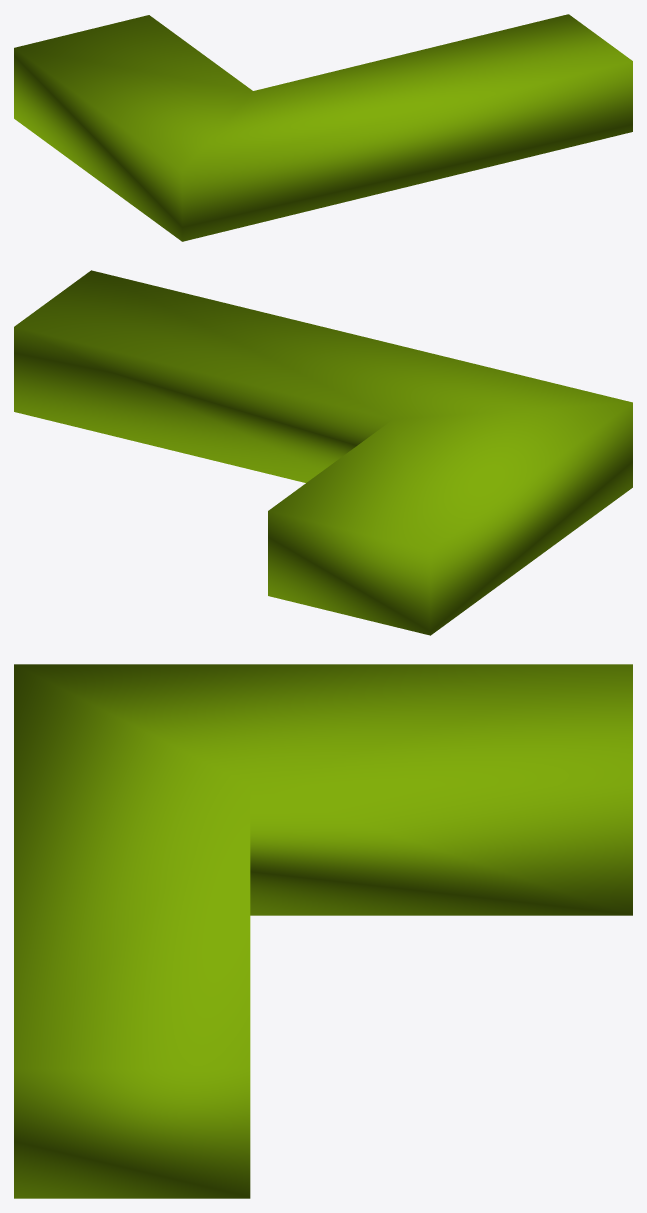
File: LPEomassa.glb
3 renders of one model, top to bottom at view 1: azimuth 30°, elevation 25°; view 2: azimuth 150°, elevation 25°; view 3: azimuth 270°, elevation 25°, orthographic. The views are drawn at different scales.
Visible parts, largest first — view 1: LPEomassa; view 2: LPEomassa; view 3: LPEomassa.
Part boxes in pixels (bbox=[...]): LPEomassa: bbox=[14, 14, 632, 241]; LPEomassa: bbox=[14, 270, 632, 635]; LPEomassa: bbox=[14, 664, 632, 1198].
Size of the model in its own units: 10 by 1.5 by 6.47.
